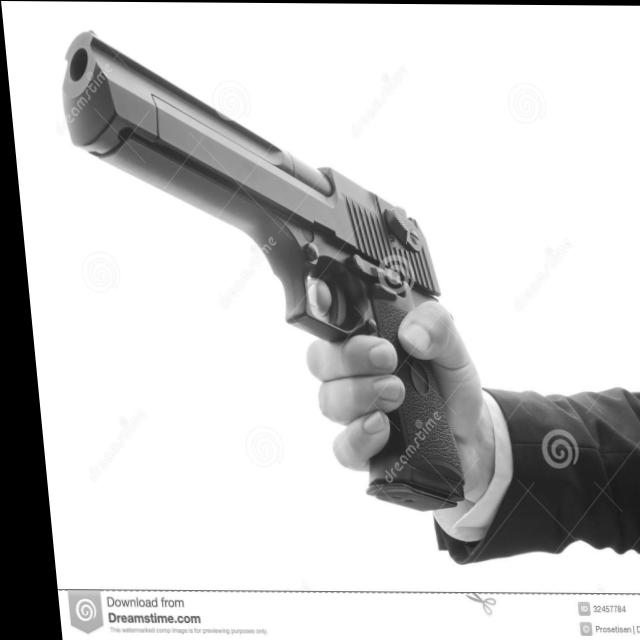handgun: (50, 25, 472, 535)
